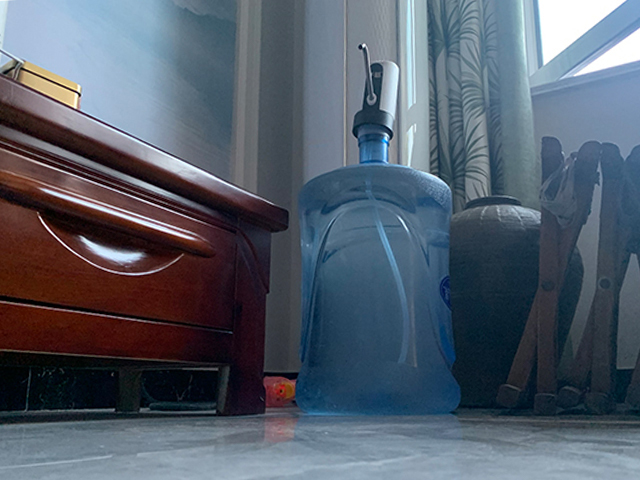cabinet: (1, 72, 290, 418)
stool: (494, 136, 640, 418)
